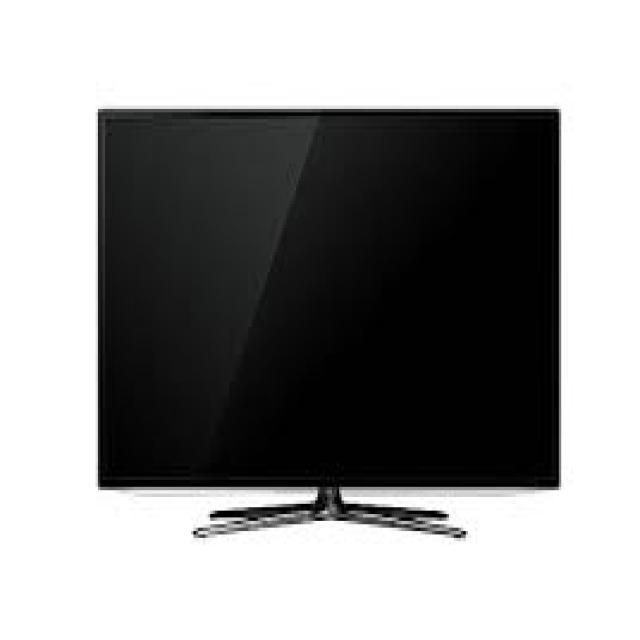tv: (85, 89, 586, 537)
